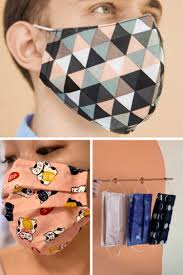cloth_mask: (40, 13, 169, 138)
